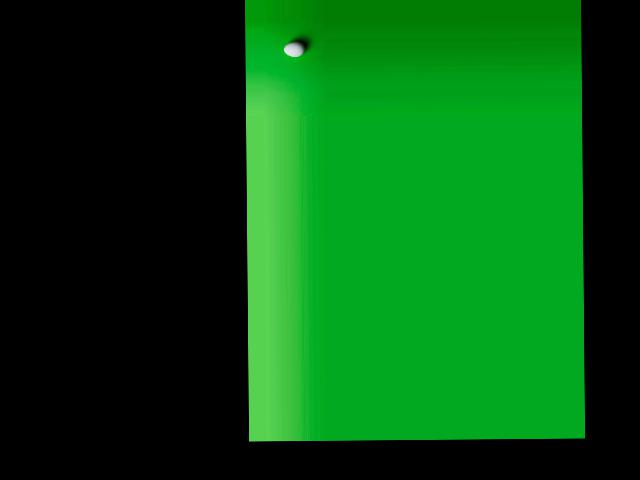egg: (284, 41, 305, 57)
